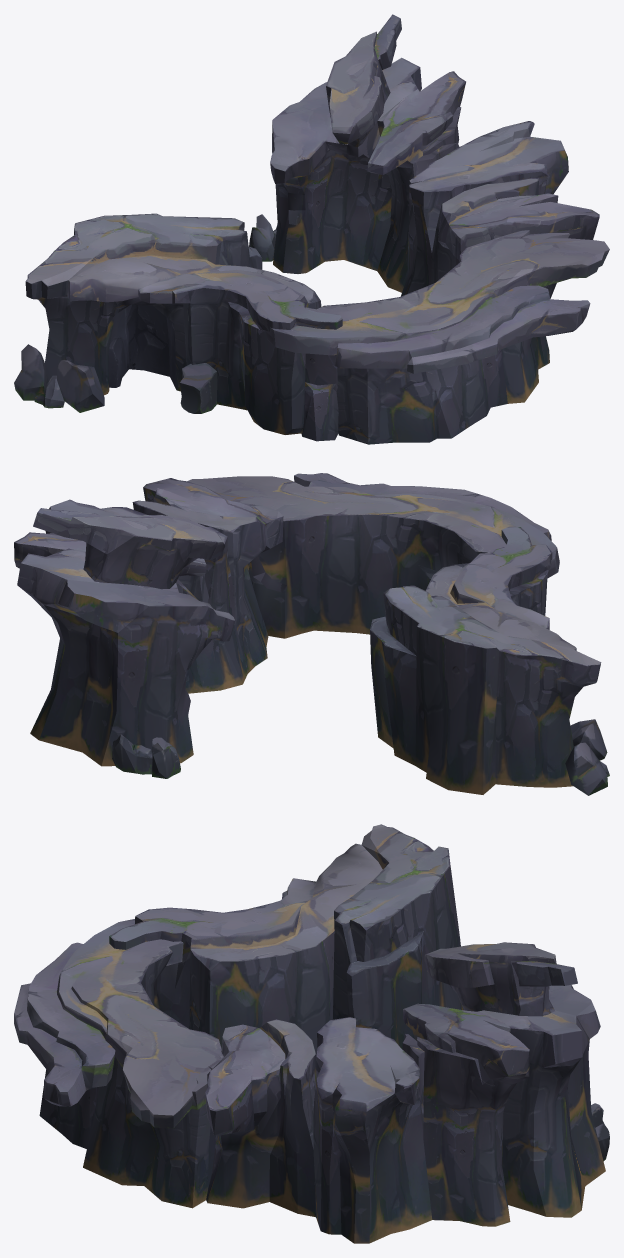
File: scene_malujiakuangdao_shan07.FBX
3 views of the same model, one above another, from view 1: azimuth 30°, elevation 25°; view 2: azimuth 150°, elevation 25°; view 3: azimuth 270°, elevation 25° (orthographic). The views are drawn at different scales.
Visible parts, largest first — view 1: scene_malujiakuangdao_shan07; view 2: scene_malujiakuangdao_shan07; view 3: scene_malujiakuangdao_shan07.
Part boxes in pixels (bbox=[...]): scene_malujiakuangdao_shan07: bbox=[14, 14, 609, 444]; scene_malujiakuangdao_shan07: bbox=[14, 473, 609, 795]; scene_malujiakuangdao_shan07: bbox=[14, 824, 609, 1243].
Size of the model in its own units: 2400 by 908 by 1995.
